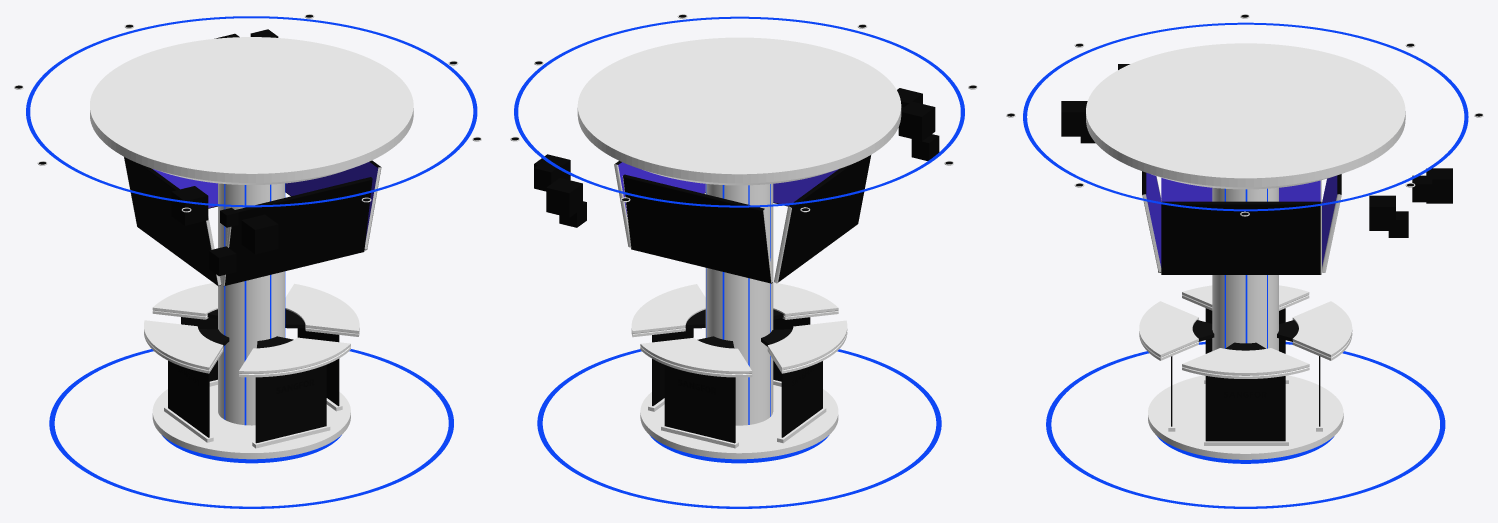
File: 中心台.FBX
The picture shows the model from 3 angles, left to right: view 1: azimuth 30°, elevation 25°; view 2: azimuth 150°, elevation 25°; view 3: azimuth 270°, elevation 25°; orthographic projection.
Visible parts, largest first — view 1: zst-019, zst-020, zst-034, zst-054, zst-012, zst-021, zst-048, zst-008, zst-007, zst-023, zst-050, zst-009 (+7 smaller); view 2: zst-019, zst-020, zst-045, zst-054, zst-012, zst-048, zst-022, zst-008, zst-007, zst-023, zst-015, zst-050 (+8 smaller); view 3: zst-019, zst-051, zst-020, zst-012, zst-054, zst-024, zst-008, zst-007, zst-047, zst-044, zst-033, zst-014 (+5 smaller).
Boxes of the visible parts, x1=… form: zst-019: x1=90, y1=37, x2=413, y2=184; zst-020: x1=144, y1=283, x2=359, y2=377; zst-034: x1=225, y1=179, x2=372, y2=285; zst-054: x1=218, y1=183, x2=284, y2=425; zst-012: x1=152, y1=385, x2=350, y2=459; zst-021: x1=255, y1=364, x2=326, y2=443; zst-048: x1=124, y1=157, x2=218, y2=285; zst-008: x1=26, y1=16, x2=477, y2=207; zst-007: x1=49, y1=349, x2=453, y2=508; zst-023: x1=168, y1=360, x2=209, y2=437; zst-050: x1=285, y1=162, x2=380, y2=249; zst-009: x1=241, y1=214, x2=278, y2=254; zst-019: x1=577, y1=37, x2=901, y2=185; zst-020: x1=631, y1=282, x2=847, y2=377; zst-045: x1=623, y1=177, x2=771, y2=282; zst-054: x1=705, y1=184, x2=773, y2=425; zst-012: x1=640, y1=385, x2=838, y2=459; zst-048: x1=778, y1=155, x2=870, y2=281; zst-022: x1=664, y1=365, x2=735, y2=443; zst-008: x1=514, y1=16, x2=964, y2=207; zst-007: x1=537, y1=349, x2=941, y2=508; zst-023: x1=781, y1=361, x2=822, y2=437; zst-015: x1=546, y1=178, x2=582, y2=217; zst-050: x1=614, y1=162, x2=705, y2=247; zst-019: x1=1086, y1=43, x2=1405, y2=189; zst-051: x1=1161, y1=204, x2=1320, y2=274; zst-020: x1=1139, y1=285, x2=1352, y2=378; zst-012: x1=1148, y1=375, x2=1343, y2=459; zst-054: x1=1212, y1=187, x2=1278, y2=350; zst-024: x1=1205, y1=376, x2=1285, y2=441; zst-008: x1=1023, y1=22, x2=1468, y2=211; zst-007: x1=1046, y1=341, x2=1445, y2=508; zst-047: x1=1161, y1=178, x2=1321, y2=201; zst-044: x1=1322, y1=175, x2=1341, y2=272; zst-033: x1=1143, y1=173, x2=1161, y2=272; zst-014: x1=1369, y1=195, x2=1395, y2=230.
Size of the model in its own units: 3587 by 2600 by 3587.
